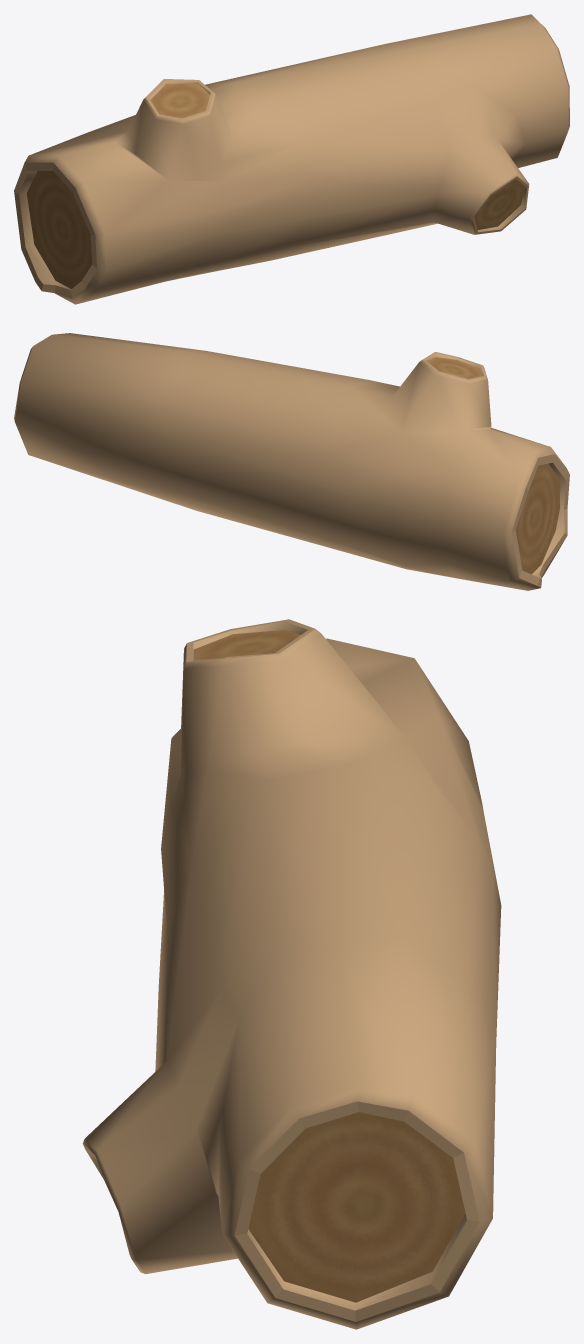
File: Log_4.fbx
3 renders of one model, top to bottom at view 1: azimuth 30°, elevation 25°; view 2: azimuth 150°, elevation 25°; view 3: azimuth 270°, elevation 25°, orthographic. The views are drawn at different scales.
Parts seen in each view (by area): view 1: Cube.083; view 2: Cube.083; view 3: Cube.083.
Boxes of the visible parts, <box> form: Cube.083: <box>14,14,569,304</box>; Cube.083: <box>14,333,569,590</box>; Cube.083: <box>82,619,501,1329</box>.
Size of the model in its own units: 155 by 58.32 by 56.78.
